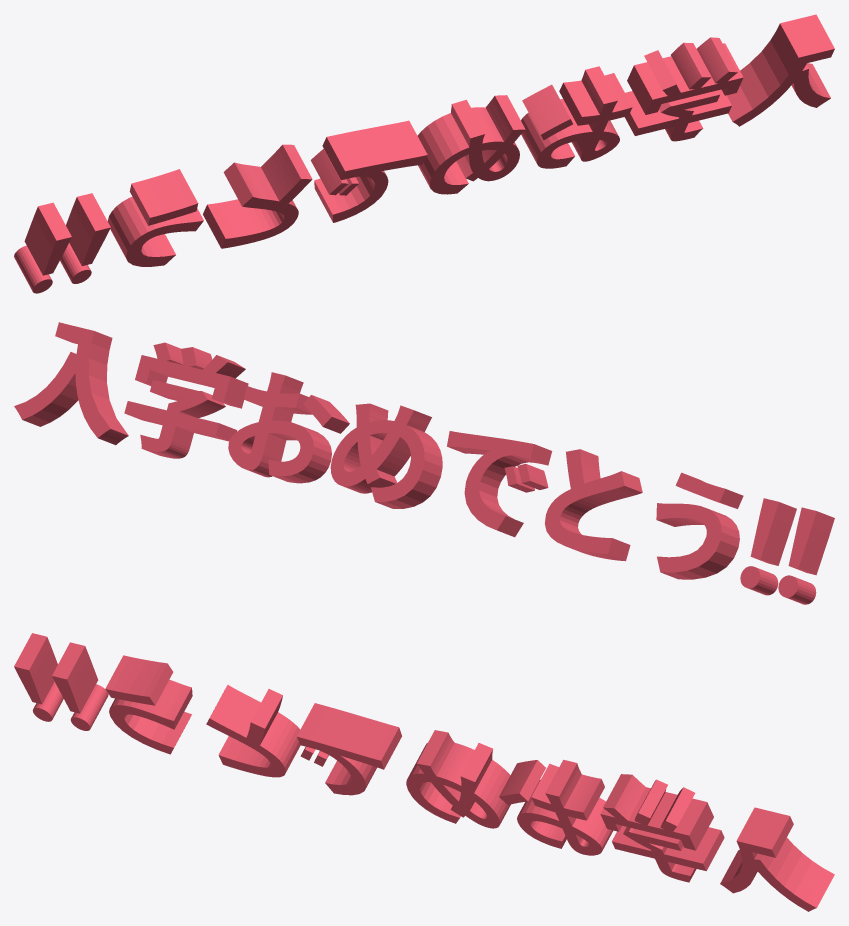
The model's file is happytxt.glb.
3 views of the same model, one above another, from view 1: azimuth 30°, elevation 25°; view 2: azimuth 150°, elevation 25°; view 3: azimuth 330°, elevation 25° (orthographic). The views are drawn at different scales.
Parts seen in each view (by area): view 1: obj_0; view 2: obj_0; view 3: obj_0.
Part boxes in pixels (x1=…): obj_0: x1=14, y1=14, x2=834, y2=293; obj_0: x1=14, y1=322, x2=834, y2=604; obj_0: x1=14, y1=633, x2=834, y2=911.
Size of the model in its own units: 0.7433 by 0.0966 by 0.0781.
